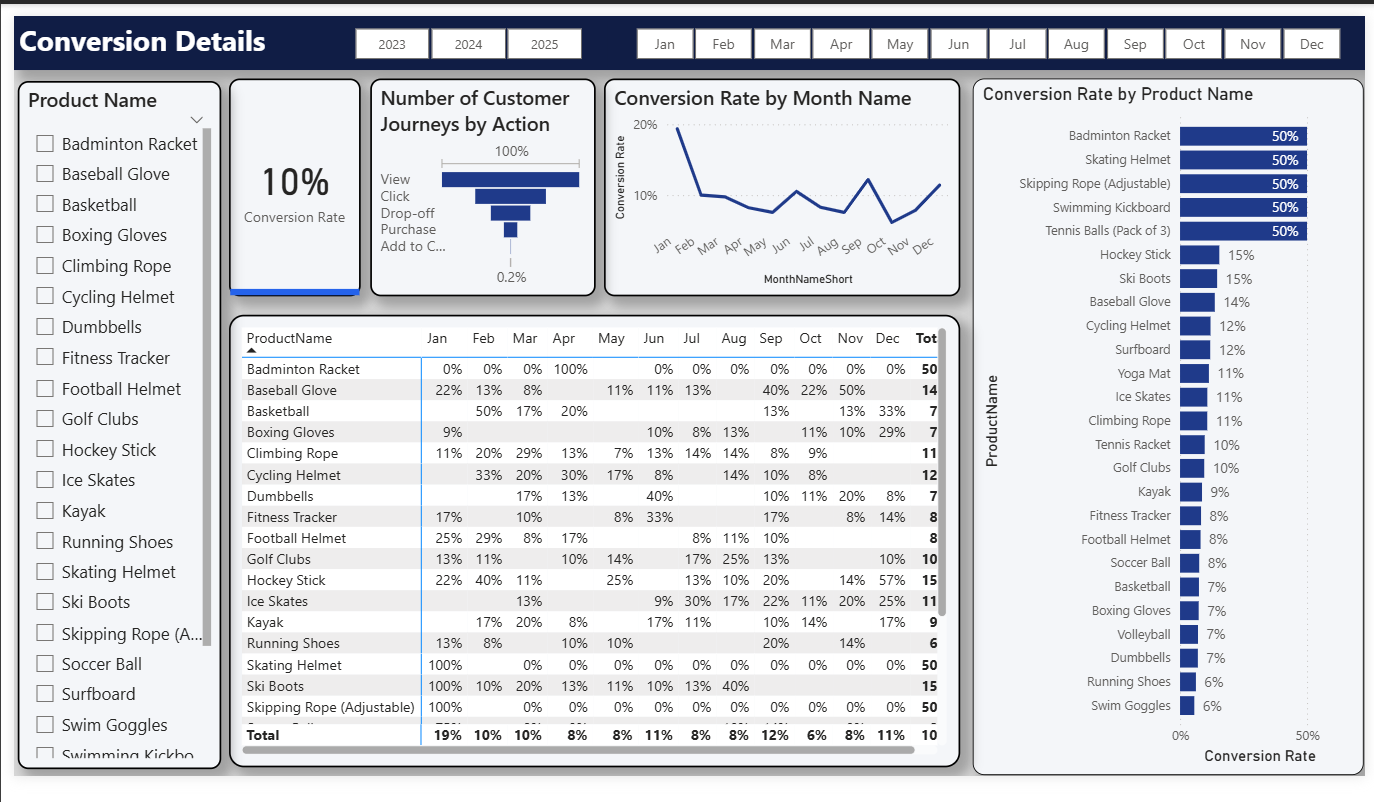

What the dashboard file says about the page in this screenshot:
{"tool":"powerbi","page":{"name":"Conversion Details","canvas":[1280,720],"ordinal":1},"visuals":[{"type":"textbox","box":[0,0,1280,51],"z":0},{"type":"card","fields":{"Values":["_Calculations.Conversion Rate"]},"box":[203.8,59.6,125.2,206.2],"z":1000},{"type":"slicer","fields":{"Values":["Calendar.Year"]},"box":[296.8,4.8,264.6,42.9],"z":2000},{"type":"slicer","fields":{"Values":["Calendar.MonthNameShort"]},"box":[563.2,4.9,716.6,42.9],"z":3000},{"type":"lineChart","title":"Conversion Rate by Month Name","fields":{"Y":["_Calculations.Conversion Rate"],"Category":["Calendar.MonthNameShort"]},"box":[559.1,59.6,337.3,206.2],"z":4000},{"type":"clusteredBarChart","title":"Conversion Rate by Product Name","fields":{"Category":["dim_products.ProductName"],"Y":["_Calculations.Conversion Rate"]},"box":[908.3,59.6,370.7,660.4],"z":5000},{"type":"pivotTable","fields":{"Values":["_Calculations.Conversion Rate"],"Rows":["dim_products.ProductName"],"Columns":["Calendar.MonthNameShort"]},"box":[203.8,282.5,692.6,429.1],"z":6000},{"type":"funnel","fields":{"Y":["_Calculations.Number of Customer Journeys"],"Category":["fact_customer_journey.Action"]},"box":[337.3,59.6,213.4,206.2],"z":7000},{"type":"slicer","title":"Product Name","fields":{"Values":["products.ProductName"]},"box":[3.6,62,193.1,652],"z":8000},{"type":"shape","box":[205,196.7,122.8,129.9],"z":9000}]}

Visuals, with their boxes on the page's 1280x720 design canvas (x1, y1, x2, y2). These are canvas units, not pixel positions in the 1374x802 screenshot, which may show the page scaled, cropped or inside an application window:
textbox: BBox(0, 0, 1280, 51)
card - _Calculations.Conversion Rate: BBox(204, 60, 329, 266)
slicer - Calendar.Year: BBox(297, 5, 561, 48)
slicer - Calendar.MonthNameShort: BBox(563, 5, 1280, 48)
"Conversion Rate by Month Name" lineChart: BBox(559, 60, 896, 266)
"Conversion Rate by Product Name" clusteredBarChart: BBox(908, 60, 1279, 720)
pivotTable - _Calculations.Conversion Rate x dim_products.ProductName: BBox(204, 282, 896, 712)
funnel - _Calculations.Number of Customer Journeys x fact_customer_journey.Action: BBox(337, 60, 551, 266)
"Product Name" slicer: BBox(4, 62, 197, 714)
shape: BBox(205, 197, 328, 327)
